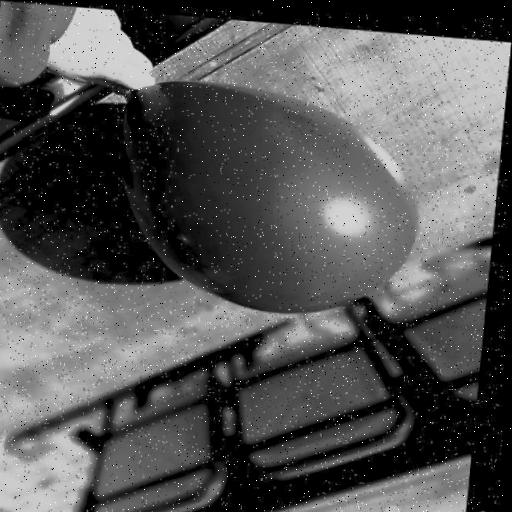balloon: (102, 79, 436, 324)
